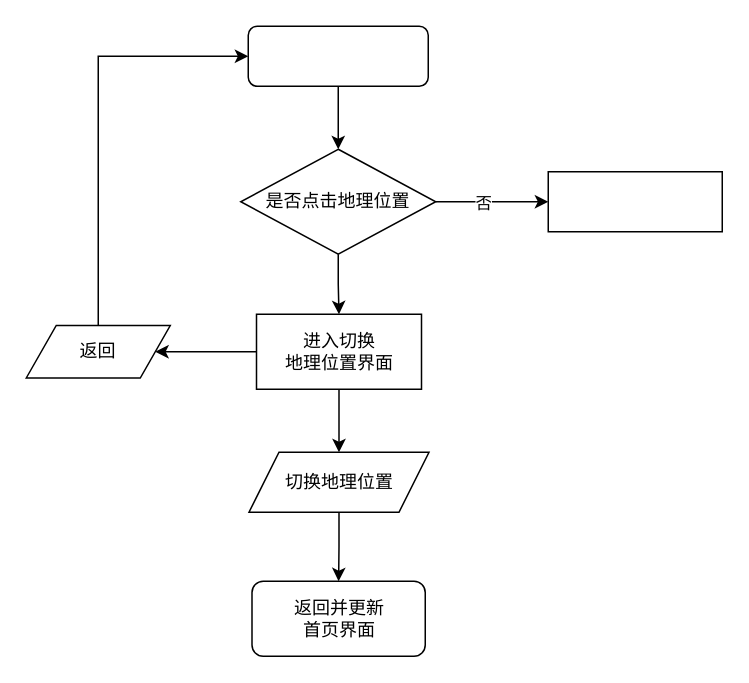
The diagram is 749 pixels wide and 683 high, and some of its shapes have lost their labels. The shapes that lost their labels are listed below. From the top down, each one's centre as x and y in pixels, then its label:
point 337,55: 首页界面
point 634,201: GPS定位当前位置
